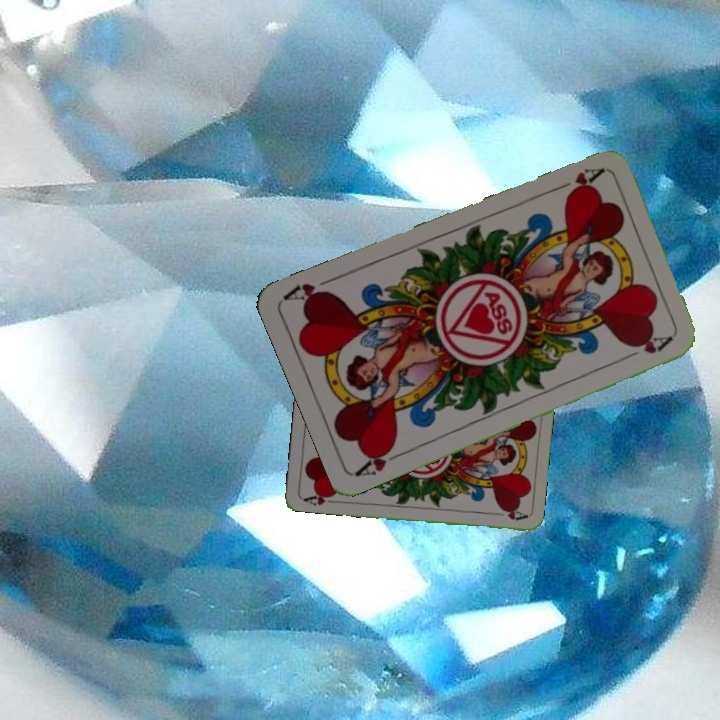HA: (352, 440, 409, 479), (549, 164, 606, 195), (299, 489, 339, 508)
